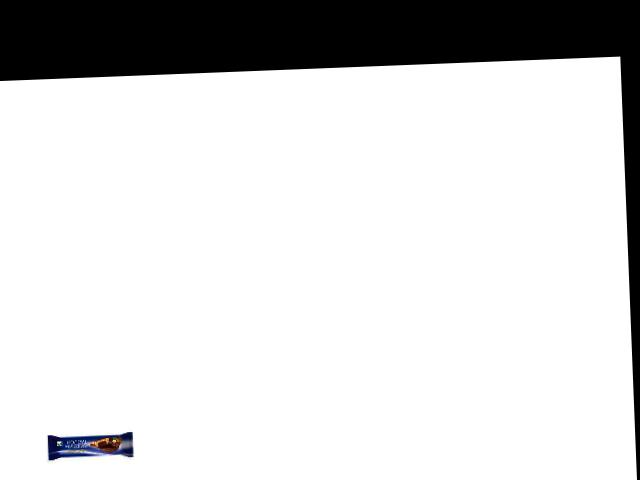chocolate: (45, 423, 144, 462)
